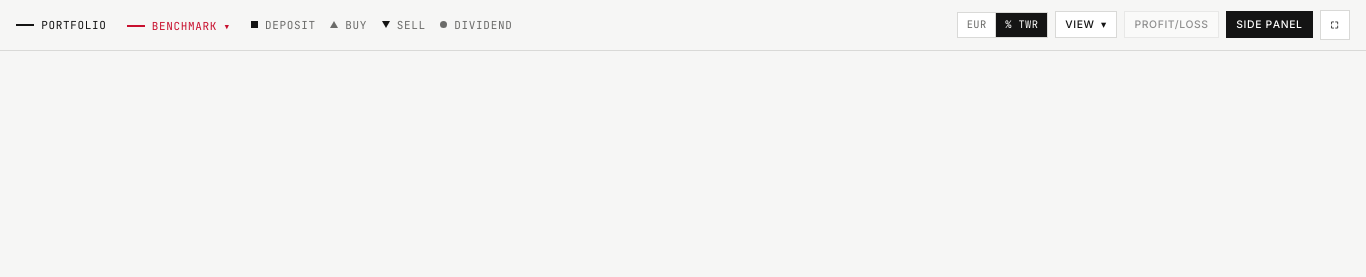
Test: ChartToolbar › keeps the options of the currency for the currency
The image size is (1366, 277).
Expected: the button "Profit/Loss" is disabled, [1124,11,1219,38]
Click the button "View ▾" at (1086, 25), box [1055,11,1117,38]
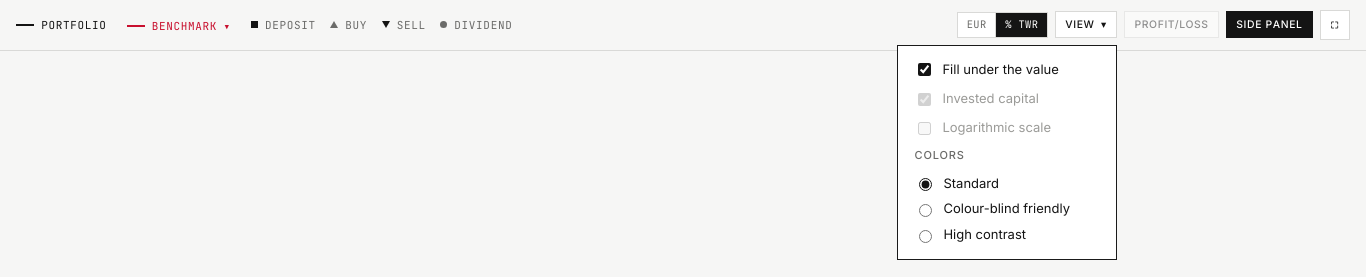
Expected: the checkbox labelled "Logarithmic scale" is disabled, [918,122,931,135]
